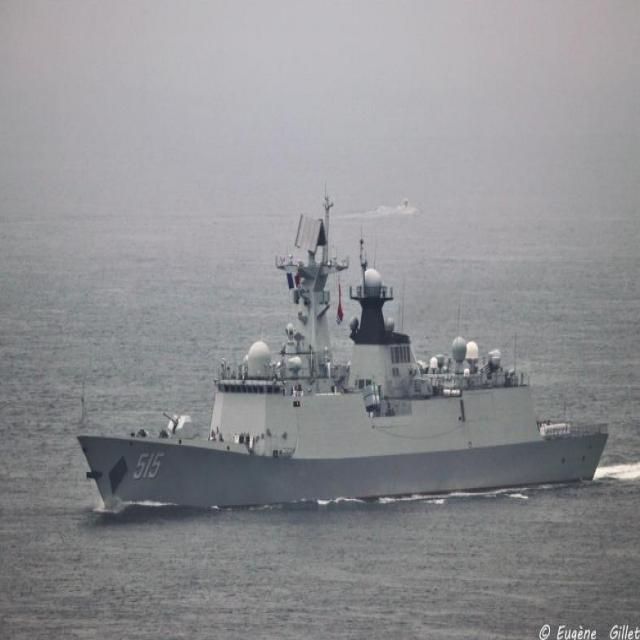Fragata: (77, 185, 610, 516)
